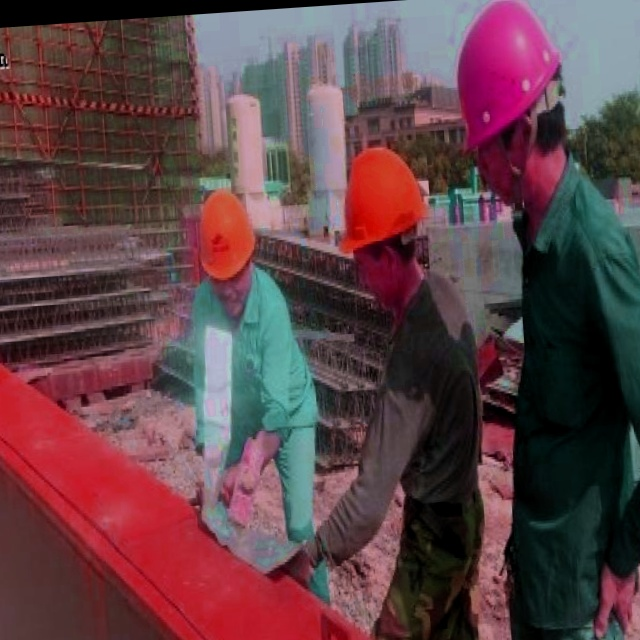Con_Casco: (334, 142, 429, 300)
